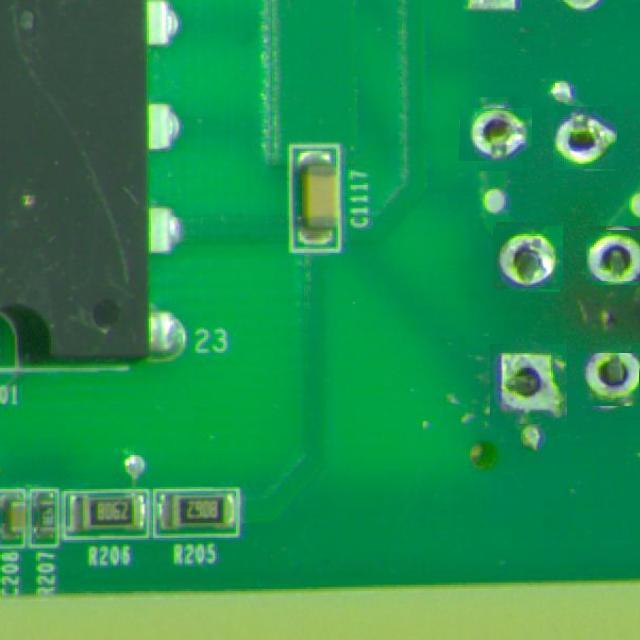lack_of_part: (490, 344, 567, 424), (495, 224, 562, 291), (553, 107, 617, 170), (464, 103, 527, 166), (581, 348, 640, 411), (587, 228, 640, 283)
